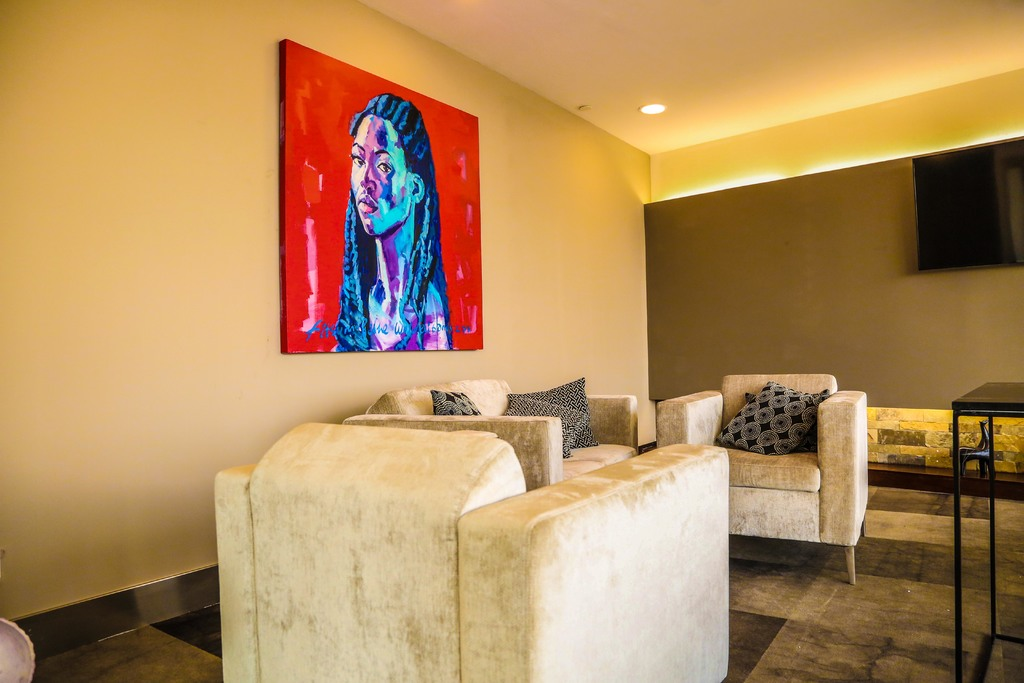Couch: (211, 424, 726, 682), (660, 370, 867, 589), (354, 379, 640, 488), (0, 613, 34, 682)
